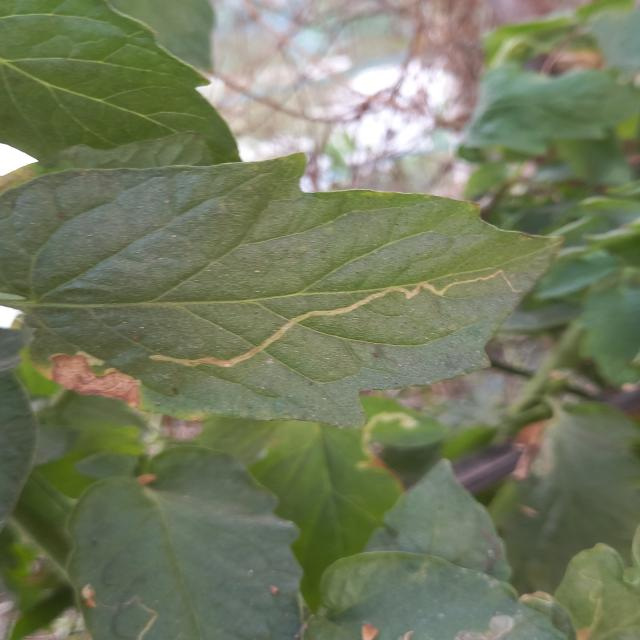Tuta absoluta: (147, 257, 521, 385)
